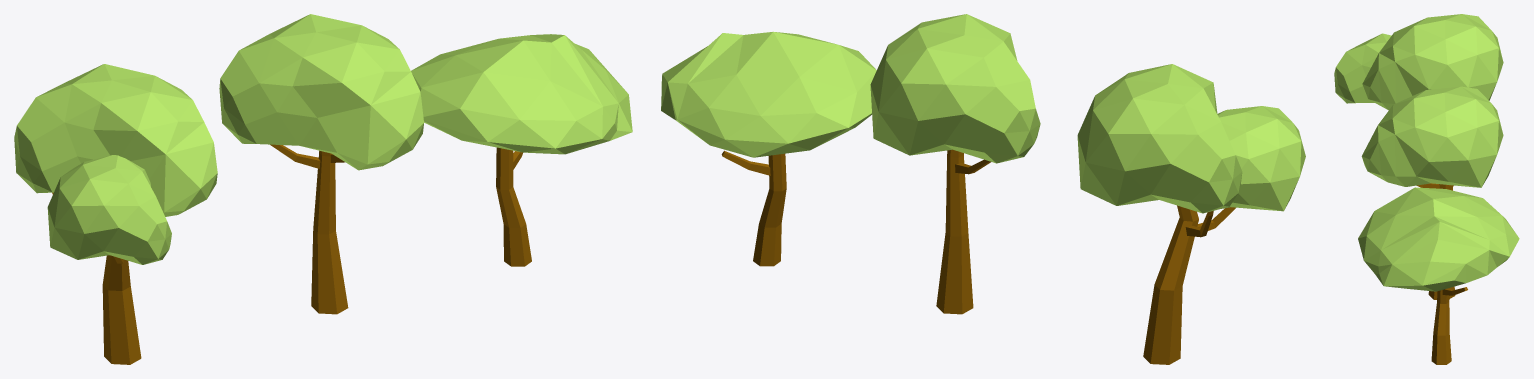
The model's file is trees.glb.
3 renders of one model, left to right at view 1: azimuth 30°, elevation 25°; view 2: azimuth 150°, elevation 25°; view 3: azimuth 270°, elevation 25°, orthographic. The views are drawn at different scales.
Parts seen in each view (by area): view 1: Tree1, Tree2, Tree3; view 2: Tree1, Tree2, Tree3; view 3: Tree3, Tree2, Tree1.
Boxes of the visible parts, x1,y1,x2,y2 form: Tree1: [14, 64, 217, 364]; Tree2: [219, 14, 423, 314]; Tree3: [411, 34, 632, 266]; Tree1: [1077, 64, 1305, 364]; Tree2: [870, 14, 1040, 314]; Tree3: [661, 31, 876, 266]; Tree3: [1358, 187, 1519, 364]; Tree2: [1361, 86, 1503, 299]; Tree1: [1334, 14, 1503, 190].
Bounding box in the file's own units: 45.05 × 20.05 × 16.87.
